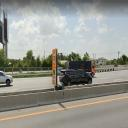speed_limit_120: (52, 50, 56, 66)
